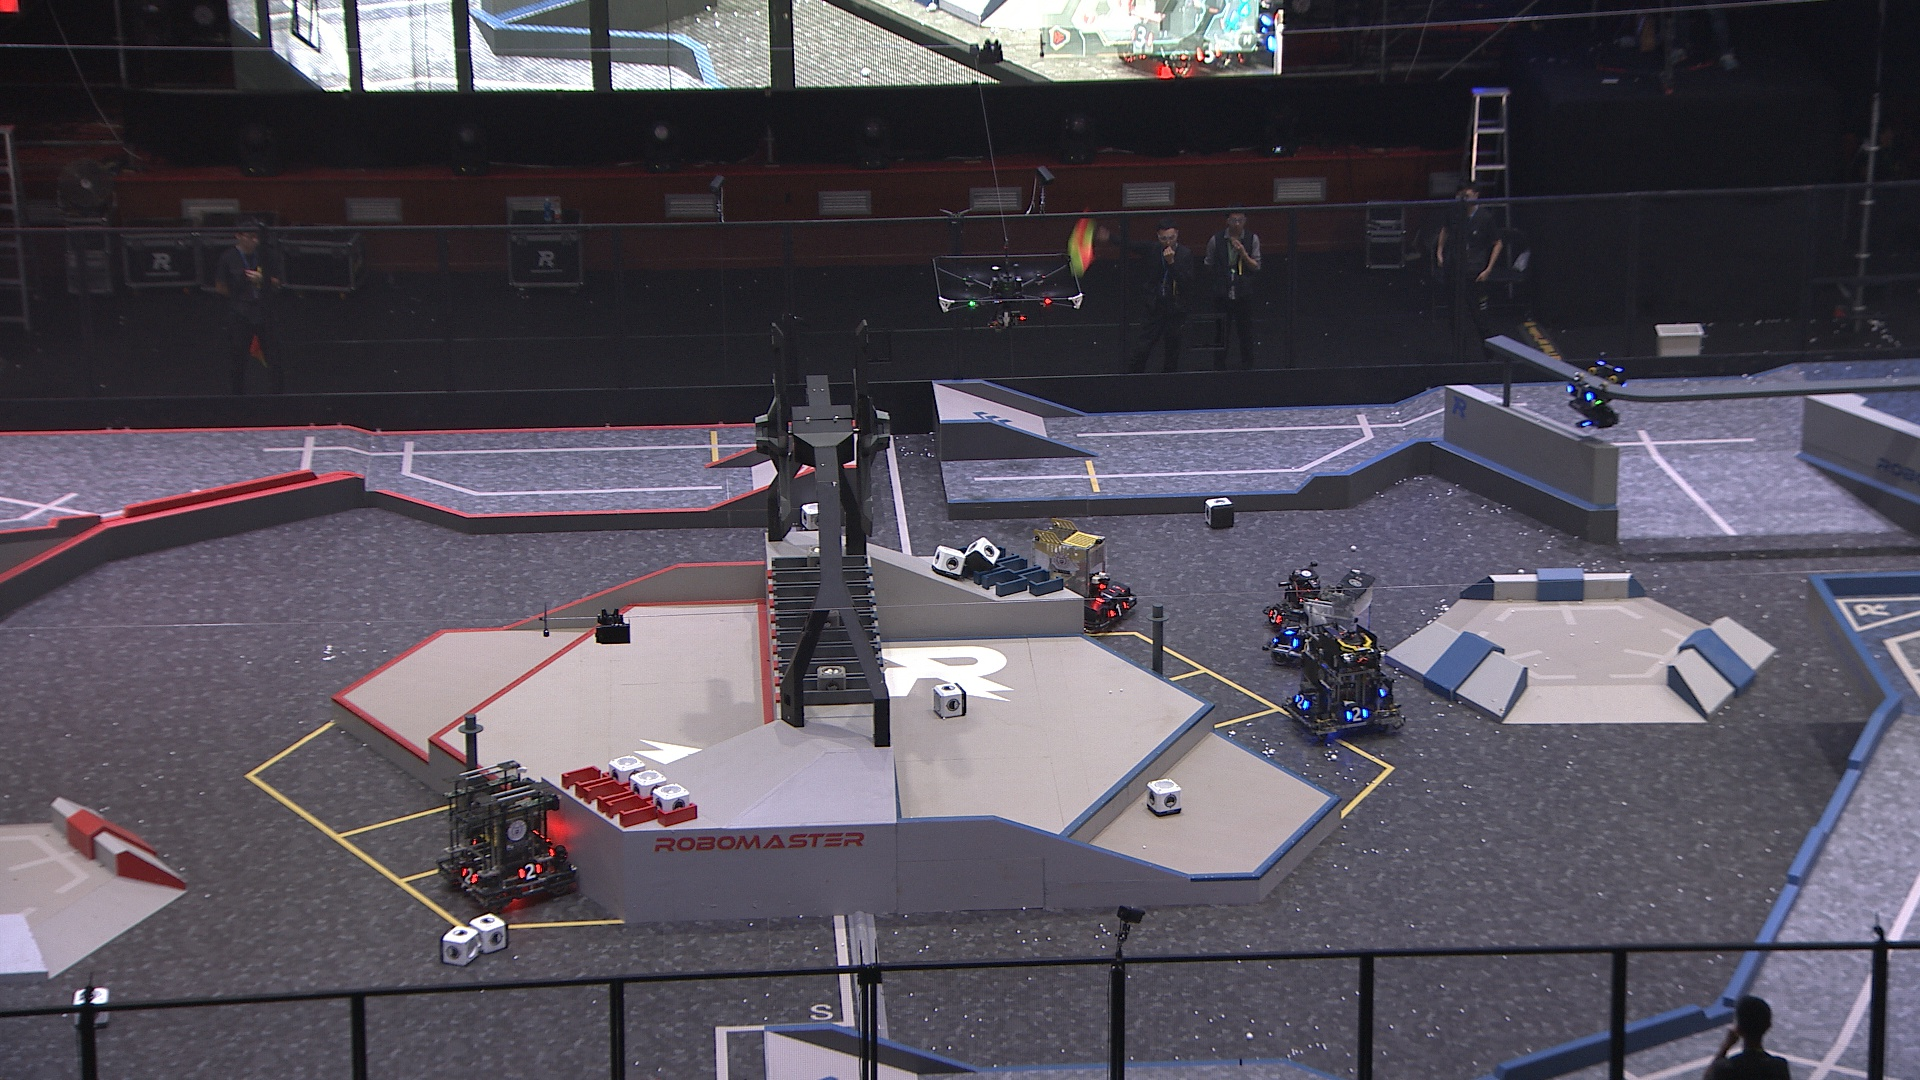armor: (1567, 382, 1596, 404), (516, 861, 541, 882), (1093, 585, 1120, 604), (1106, 600, 1130, 618), (1344, 707, 1371, 723), (458, 868, 479, 887), (1280, 621, 1298, 645), (1295, 690, 1309, 712), (1267, 607, 1282, 626)
car: (439, 760, 584, 913), (1283, 632, 1408, 742), (1029, 520, 1143, 636), (1263, 568, 1385, 666), (1262, 560, 1327, 644)
watcher: (1563, 357, 1627, 433)
